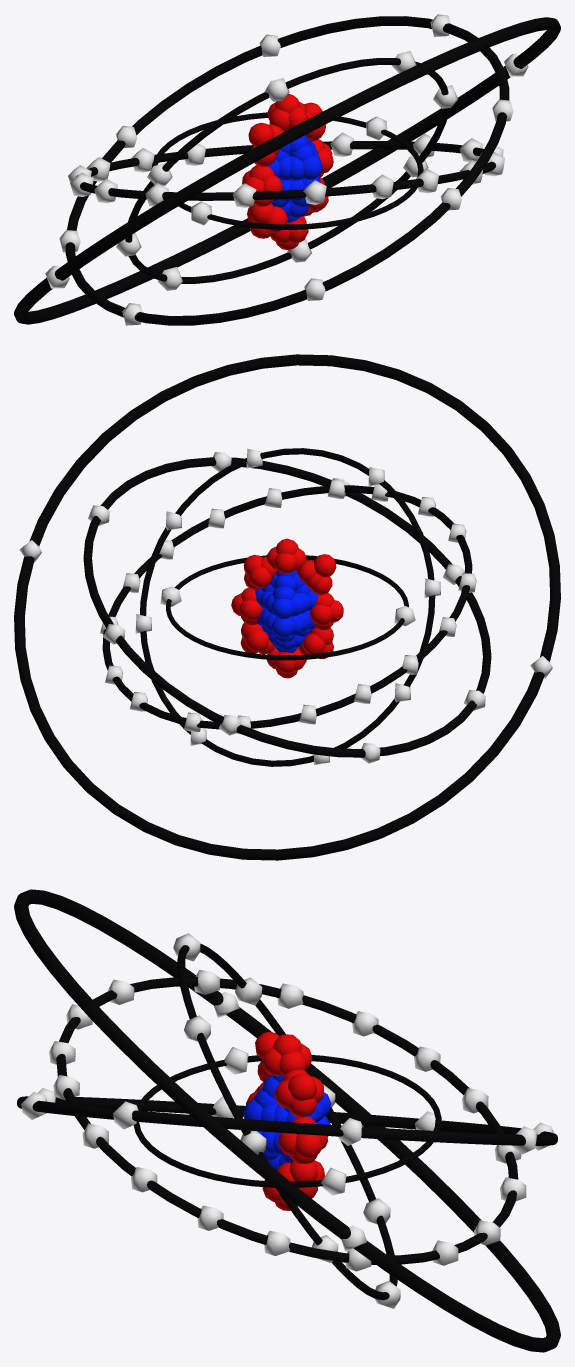
Rendered from 39 Itrio.fbx.
The picture shows the model from 3 angles, top to bottom: view 1: azimuth 30°, elevation 25°; view 2: azimuth 150°, elevation 25°; view 3: azimuth 270°, elevation 25°; orthographic projection. The views are drawn at different scales.
Visible parts, largest first — view 1: Orbita.005, Orbita.004, Sphere.011, Orbita.002, Orbita.003, Orbita.001, Electron.030, Electron.022, Electron.026, Electron.008, Electron.016, Electron.020; view 2: Orbita.005, Sphere.011, Orbita.004, Orbita.003, Orbita.002, Orbita.001; view 3: Orbita.005, Sphere.011, Orbita.004, Orbita.003, Orbita.002, Orbita.001.
Boxes of the visible parts, x1,y1,x2,y2 form: Orbita.005: [14, 17, 560, 324]; Orbita.004: [65, 16, 509, 325]; Sphere.011: [242, 94, 333, 250]; Orbita.002: [125, 58, 449, 283]; Orbita.003: [76, 141, 495, 200]; Orbita.001: [151, 112, 423, 229]; Electron.030: [303, 180, 326, 204]; Electron.022: [232, 183, 256, 207]; Electron.026: [330, 132, 353, 157]; Electron.008: [264, 78, 289, 101]; Electron.016: [371, 174, 393, 199]; Electron.020: [304, 278, 325, 300]; Orbita.005: [14, 354, 560, 860]; Sphere.011: [231, 538, 343, 678]; Orbita.004: [83, 457, 491, 757]; Orbita.003: [102, 485, 472, 729]; Orbita.002: [140, 448, 435, 766]; Orbita.001: [166, 555, 408, 660]; Orbita.005: [14, 889, 560, 1352]; Sphere.011: [243, 1031, 331, 1210]; Orbita.004: [17, 1096, 557, 1145]; Orbita.003: [56, 977, 518, 1264]; Orbita.002: [177, 944, 397, 1300]; Orbita.001: [133, 1055, 441, 1187].
Bounding box in the file's own units: 13.73 × 17.64 × 11.76.
